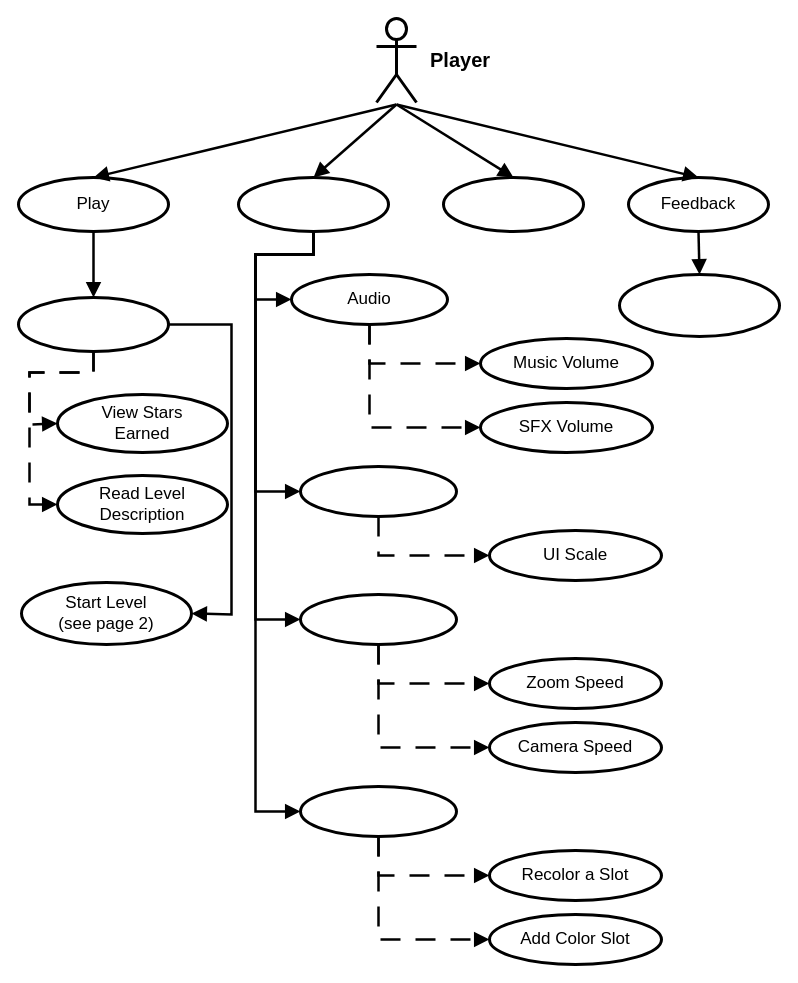
Some shapes in this 798 by 983 pixel diagram are drawn without their labels. The box of each missing label's shape, as (x1, y1, x2, y2) in pixels:
Camera: (298, 592, 458, 646)
Display: (298, 464, 458, 518)
Level Select: (16, 296, 170, 352)
Post Survey Link: (618, 272, 780, 338)
Quit Game: (442, 176, 584, 232)
Settings: (236, 176, 390, 232)
Subnet Colors: (298, 784, 458, 838)
